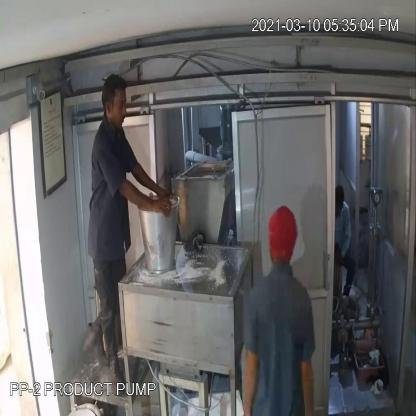no_glove: (109, 170, 176, 229)
